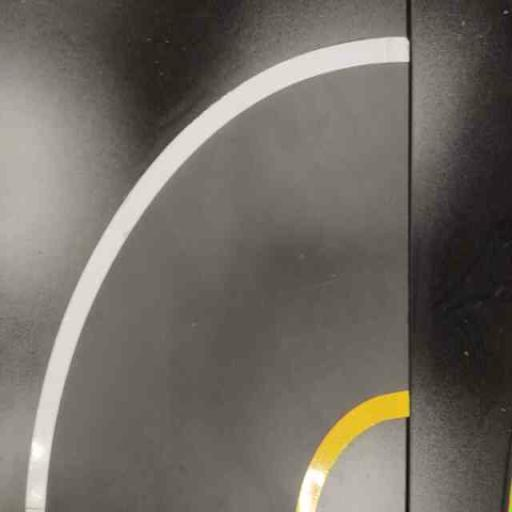left: (33, 30, 418, 507)
